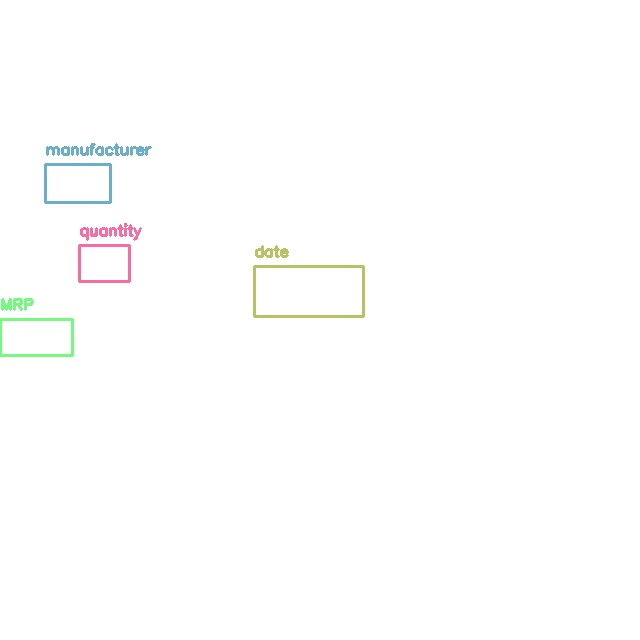MRP: (0, 319, 72, 355)
date: (254, 266, 363, 316)
manufacturer: (45, 164, 110, 202)
quantity: (79, 245, 129, 281)
